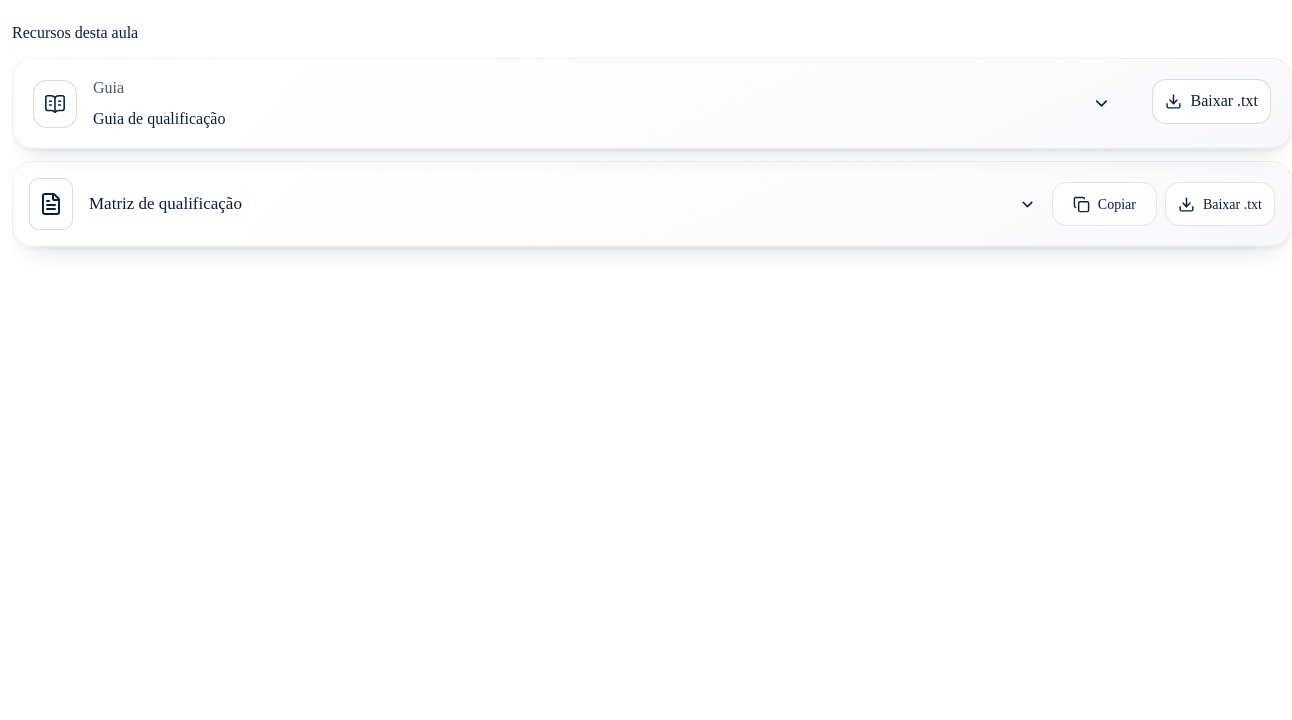
Test case: recursos da aula › dá tratamento próprio ao guia e mantém o modelo copiável
Click the text "Guia de qualificação" at [159, 118], box [93,110,225,127]
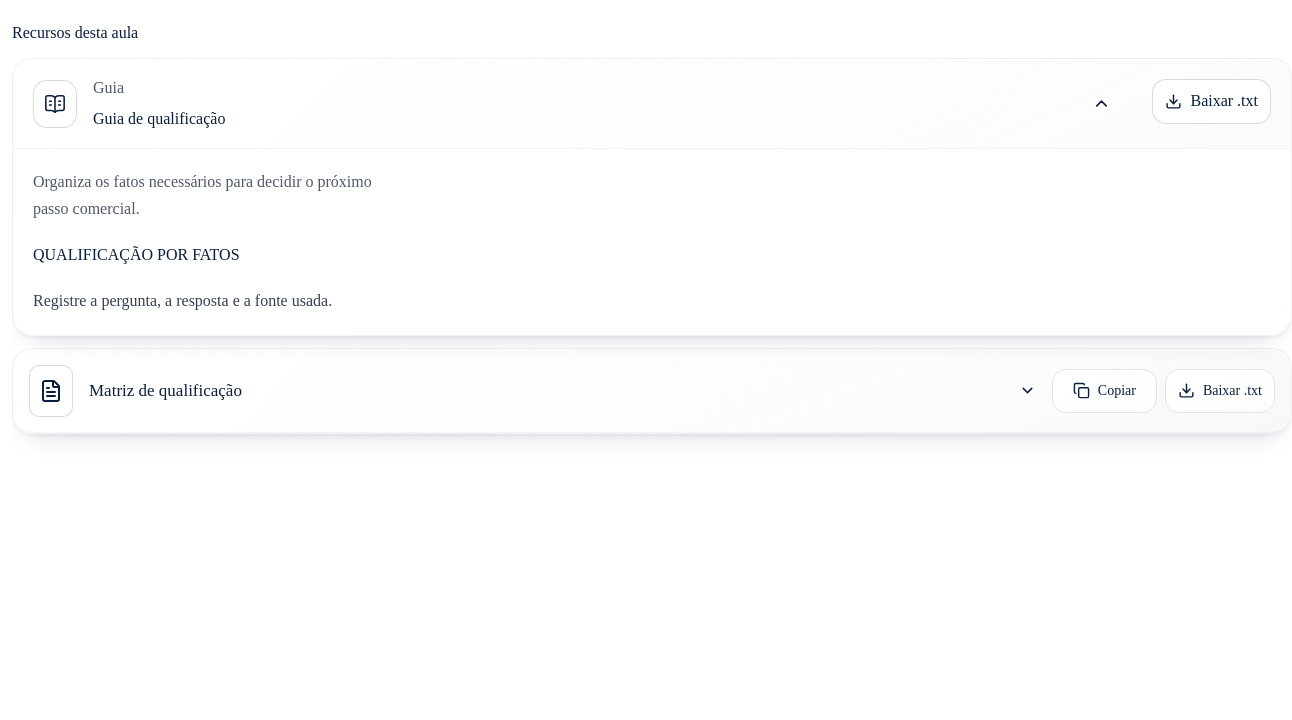
Expected: the heading "QUALIFICAÇÃO POR FATOS" is shown, [33,246,240,263]
Click the button with aria-label "Ler modelo: Matriz de qualificação" at [165, 390], box [85,369,1040,413]
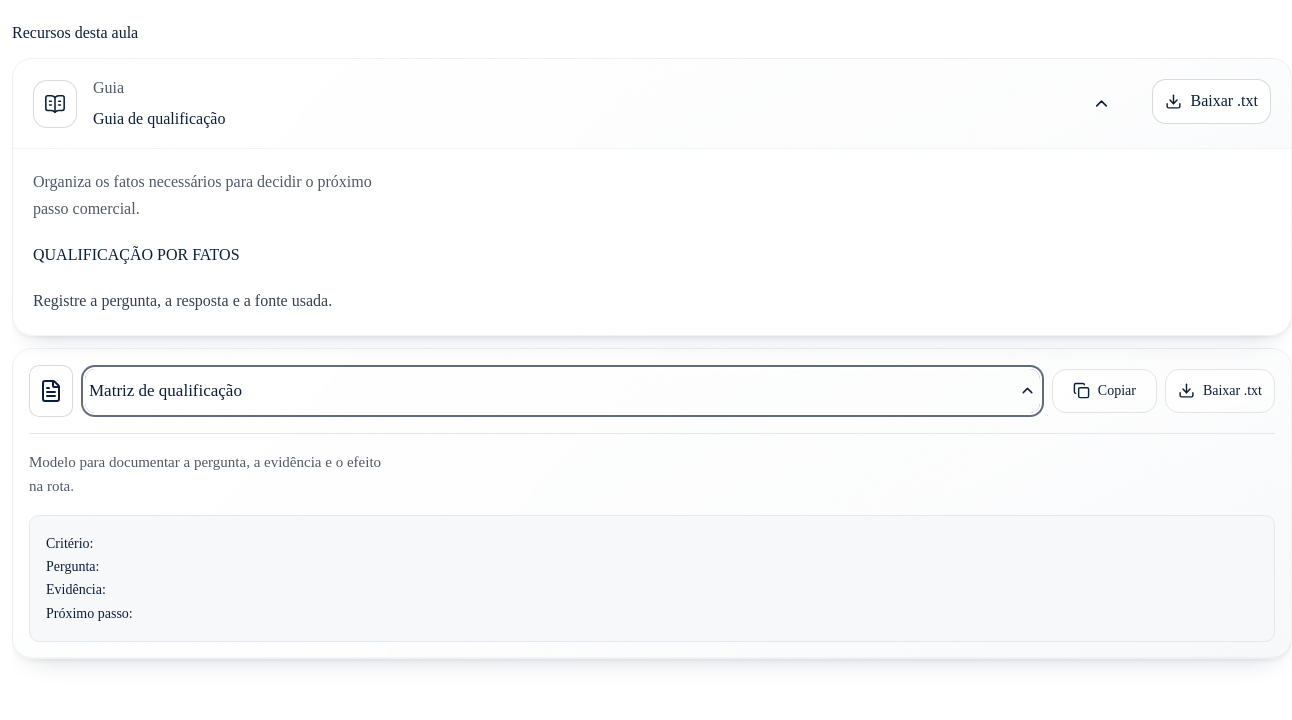
Expected: the button with aria-label "Copiar Matriz de qualificação" is shown, [1052,369,1157,413]
Expected: the text "Critério: Pergunta: Evidência: Próximo passo:" is shown, [29,515,1275,642]
